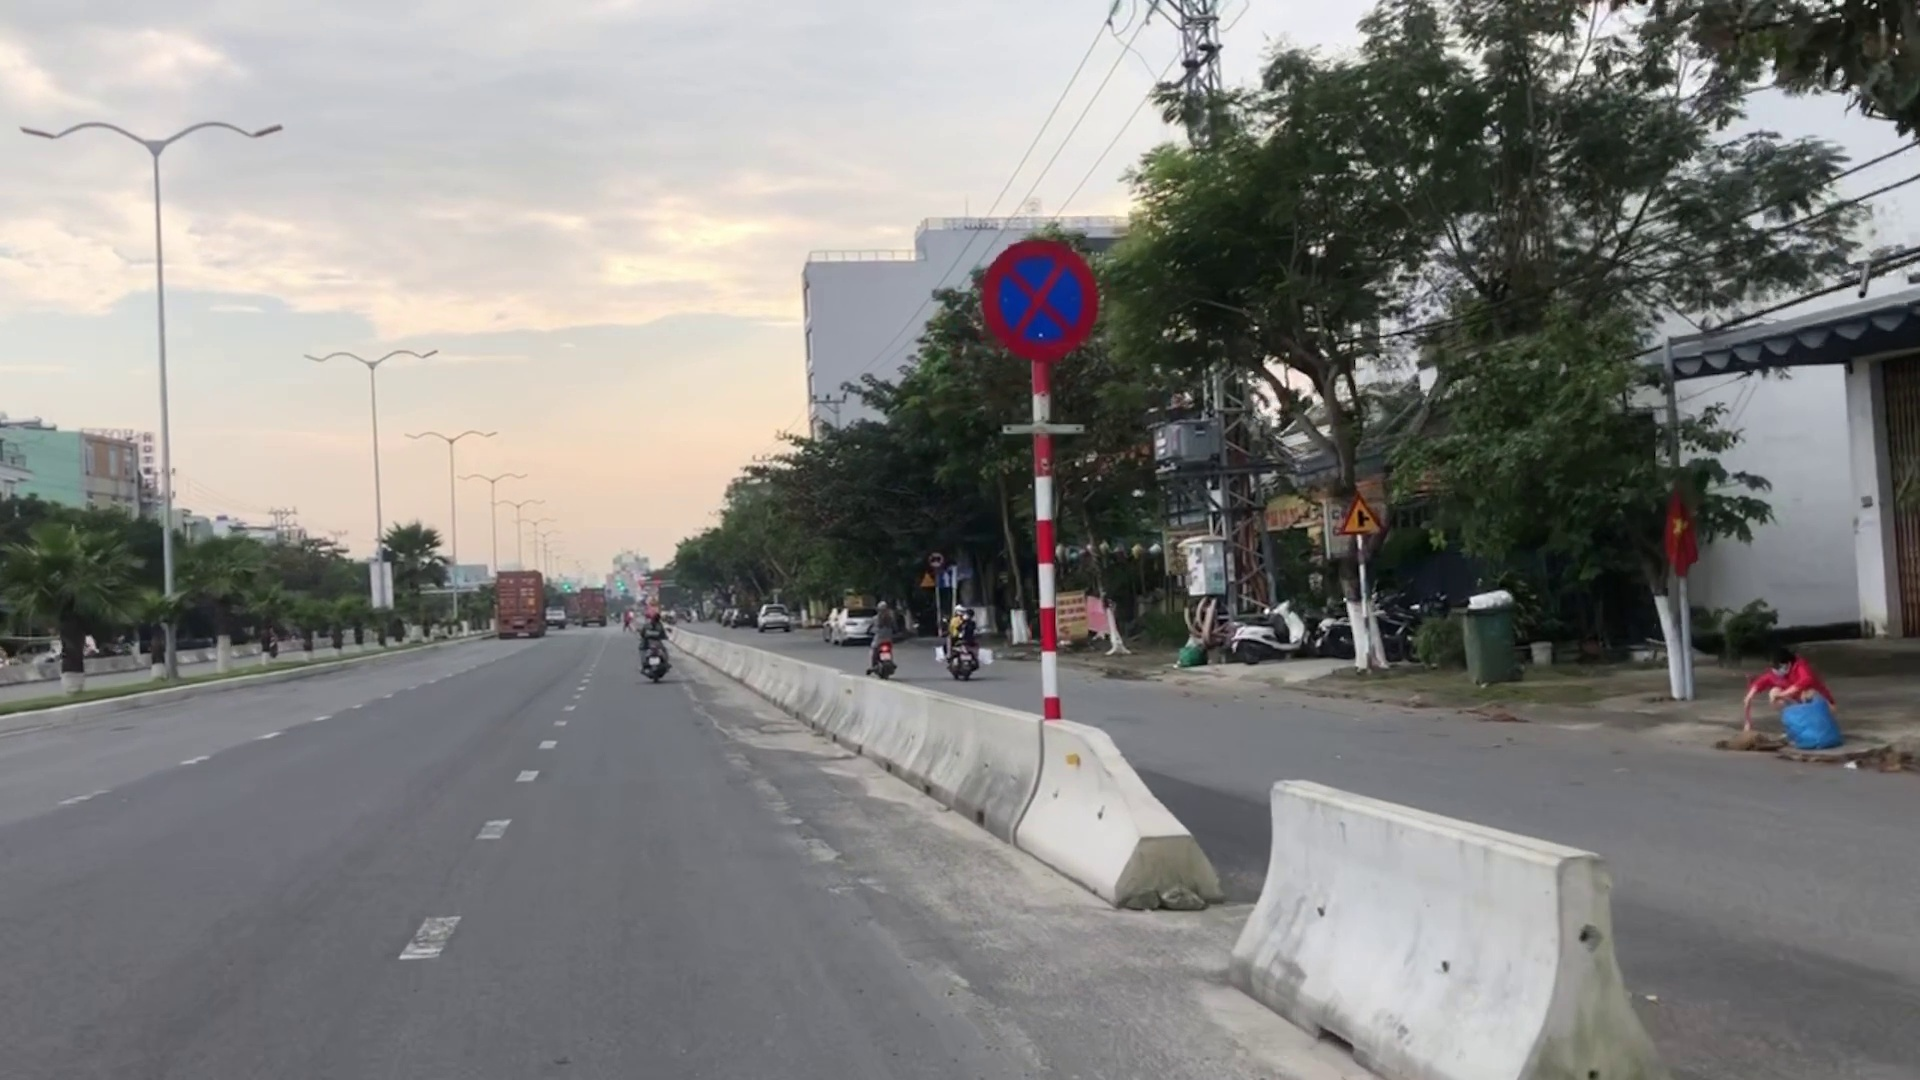Bien khac: (982, 233, 1100, 363)
Giao nhau voi duong khong uu tien: (1336, 493, 1385, 535)
